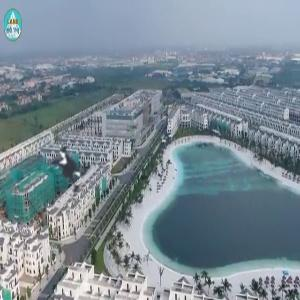drone: (23, 123, 117, 217)
